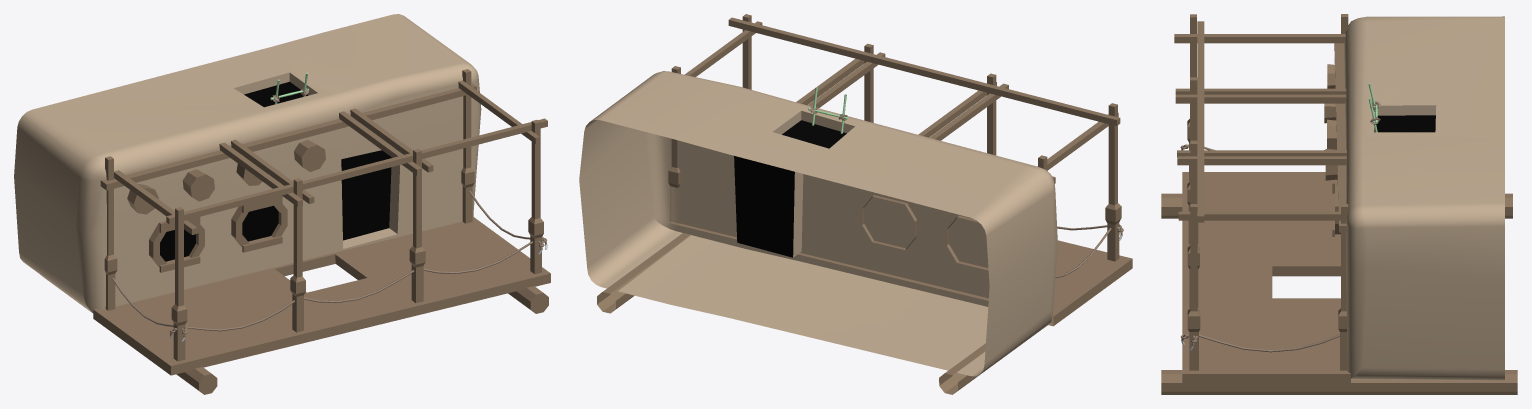
The model's file is pueblo_home_01.fbx.
3 views of the same model, side by side, from view 1: azimuth 30°, elevation 25°; view 2: azimuth 150°, elevation 25°; view 3: azimuth 270°, elevation 25° (orthographic). The views are drawn at different scales.
Parts seen in each view (by area): view 1: pueblo_house_01; view 2: pueblo_house_01; view 3: pueblo_house_01.
Part boxes in pixels (x1,y1,x2,y2): pueblo_house_01: [14, 14, 550, 394]; pueblo_house_01: [579, 14, 1132, 394]; pueblo_house_01: [1161, 14, 1517, 394].
Bounding box in the file's own units: 1224 × 594 × 865.
